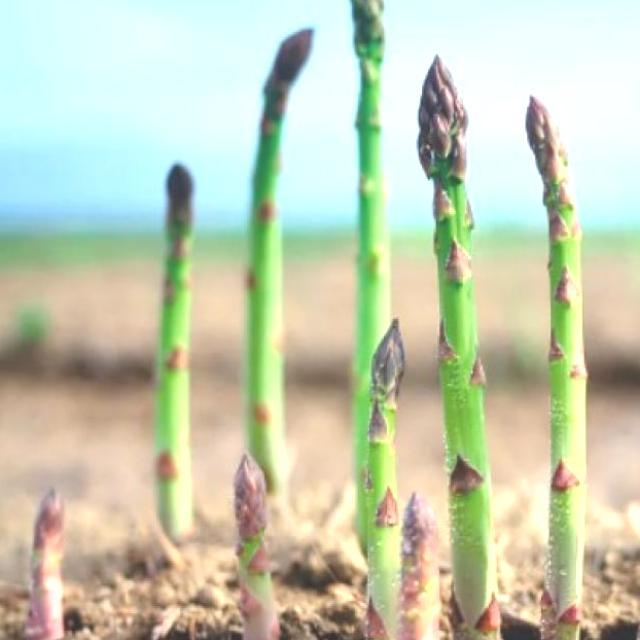aspargus: (417, 55, 490, 626)
